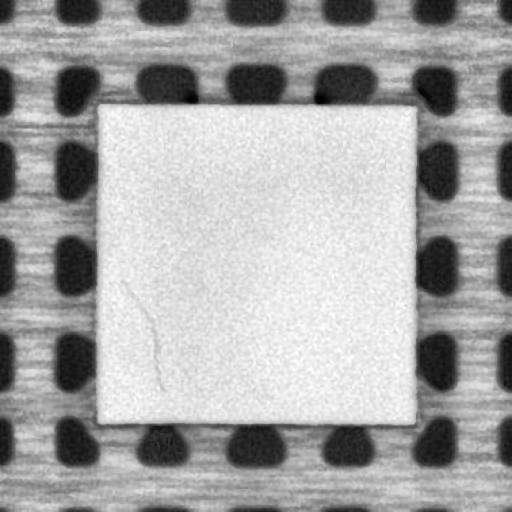DIE_CRACK: (119, 278, 165, 390)
